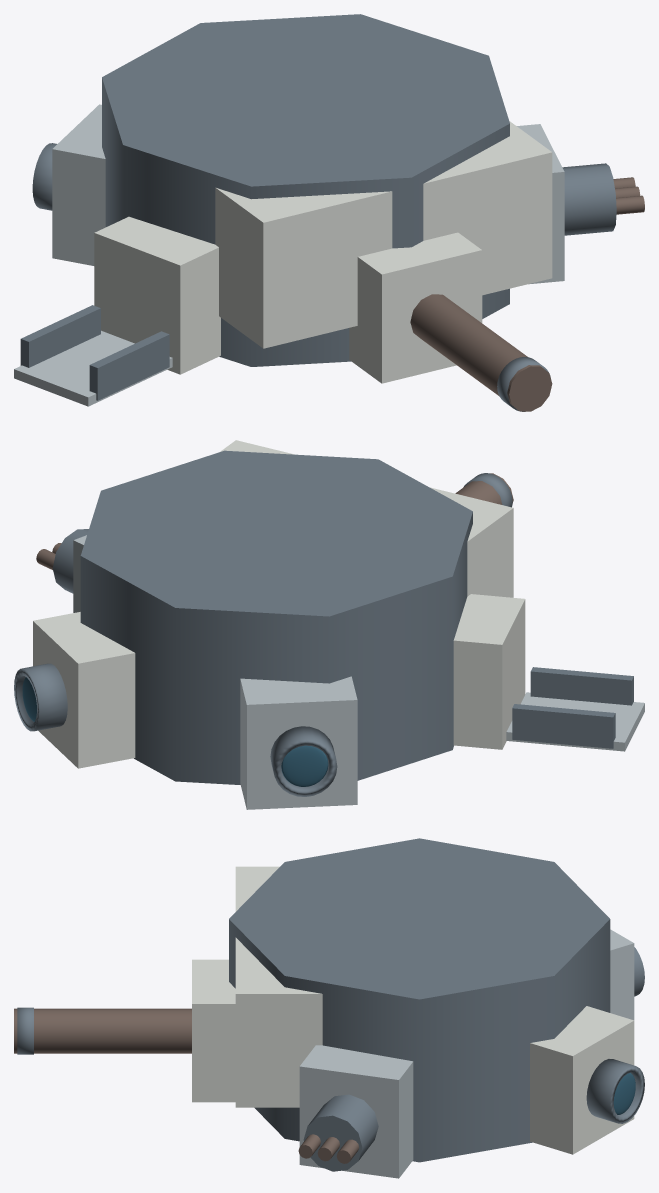
Rendered from curiosity_arm.shoulder_azimuth.shoulder_elevation.elbow.forearm.wrist.turret_rotation.glb.
The picture shows the model from 3 angles, top to bottom: view 1: azimuth 30°, elevation 25°; view 2: azimuth 150°, elevation 25°; view 3: azimuth 270°, elevation 25°; orthographic projection. The views are drawn at different scales.
Visible parts, largest first — view 1: curiosity_turret.mesh_Machined_steel, curiosity_turret.mesh_Pale_thermal_blanket, curiosity_turret.chimra.mesh_Pale_thermal_blanket, curiosity_turret.drill.mesh_Pale_thermal_blanket, curiosity_turret.apxs.mesh_Satin_aluminum, curiosity_turret.drill.mesh_Heat-stained_alloy, curiosity_turret.chimra.mesh_Machined_steel, curiosity_turret.chimra.mesh_Satin_aluminum, curiosity_turret.drt.mesh_Machined_steel, curiosity_turret.drt.mesh_Satin_aluminum, curiosity_turret.apxs.aperture.mesh_Machined_steel, curiosity_turret.drt.mesh_Heat-stained_alloy (+1 smaller); view 2: curiosity_turret.mesh_Machined_steel, curiosity_turret.mahli.mesh_Pale_thermal_blanket, curiosity_turret.apxs.mesh_Satin_aluminum, curiosity_turret.chimra.mesh_Pale_thermal_blanket, curiosity_turret.chimra.mesh_Machined_steel, curiosity_turret.mesh_Pale_thermal_blanket, curiosity_turret.mahli.aperture.mesh_Machined_steel, curiosity_turret.chimra.mesh_Satin_aluminum, curiosity_turret.apxs.aperture.mesh_Machined_steel, curiosity_turret.apxs.aperture.lens.mesh_Coated_optical_glas, curiosity_turret.drt.mesh_Machined_steel, curiosity_turret.drill.mesh_Heat-stained_alloy (+2 smaller); view 3: curiosity_turret.mesh_Machined_steel, curiosity_turret.mesh_Pale_thermal_blanket, curiosity_turret.mahli.mesh_Pale_thermal_blanket, curiosity_turret.drt.mesh_Satin_aluminum, curiosity_turret.drill.mesh_Heat-stained_alloy, curiosity_turret.drill.mesh_Pale_thermal_blanket, curiosity_turret.drt.mesh_Machined_steel, curiosity_turret.mahli.aperture.mesh_Machined_steel, curiosity_turret.apxs.mesh_Satin_aluminum, curiosity_turret.drt.mesh_Heat-stained_alloy, curiosity_turret.drill.mesh_Machined_steel, curiosity_turret.mahli.aperture.lens.mesh_Coated_optical_gla.
Boxes of the visible parts, x1,y1,x2,y2 form: curiosity_turret.mesh_Machined_steel: (102,14,509,366); curiosity_turret.mesh_Pale_thermal_blanket: (215,121,552,348); curiosity_turret.chimra.mesh_Pale_thermal_blanket: (94,216,220,374); curiosity_turret.drill.mesh_Pale_thermal_blanket: (349,232,482,383); curiosity_turret.apxs.mesh_Satin_aluminum: (52,104,105,265); curiosity_turret.drill.mesh_Heat-stained_alloy: (410,294,552,411); curiosity_turret.chimra.mesh_Machined_steel: (20,305,169,400); curiosity_turret.chimra.mesh_Satin_aluminum: (14,330,172,406); curiosity_turret.drt.mesh_Machined_steel: (562,163,616,235); curiosity_turret.drt.mesh_Satin_aluminum: (517,124,564,284); curiosity_turret.apxs.aperture.mesh_Machined_steel: (32,143,56,210); curiosity_turret.drt.mesh_Heat-stained_alloy: (613,177,644,214); curiosity_turret.mesh_Machined_steel: (80,450,472,784); curiosity_turret.mahli.mesh_Pale_thermal_blanket: (33,612,135,768); curiosity_turret.apxs.mesh_Satin_aluminum: (240,676,357,809); curiosity_turret.chimra.mesh_Pale_thermal_blanket: (453,594,525,749); curiosity_turret.chimra.mesh_Machined_steel: (512,667,633,748); curiosity_turret.mesh_Pale_thermal_blanket: (220,440,513,597); curiosity_turret.mahli.aperture.mesh_Machined_steel: (14,663,67,731); curiosity_turret.chimra.mesh_Satin_aluminum: (506,692,644,751); curiosity_turret.apxs.aperture.mesh_Machined_steel: (270,726,337,796); curiosity_turret.apxs.aperture.lens.mesh_Coated_optical_glas: (281,745,328,786); curiosity_turret.drt.mesh_Machined_steel: (52,529,88,593); curiosity_turret.drill.mesh_Heat-stained_alloy: (455,473,513,504); curiosity_turret.mesh_Machined_steel: (229,838,610,1162); curiosity_turret.mesh_Pale_thermal_blanket: (235,866,322,1107); curiosity_turret.mahli.mesh_Pale_thermal_blanket: (530,1006,634,1154); curiosity_turret.drt.mesh_Satin_aluminum: (299,1045,413,1178); curiosity_turret.drill.mesh_Heat-stained_alloy: (14,1008,191,1053); curiosity_turret.drill.mesh_Pale_thermal_blanket: (192,959,235,1102); curiosity_turret.drt.mesh_Machined_steel: (303,1094,378,1171); curiosity_turret.mahli.aperture.mesh_Machined_steel: (586,1059,644,1123); curiosity_turret.apxs.mesh_Satin_aluminum: (610,929,634,1020); curiosity_turret.drt.mesh_Heat-stained_alloy: (298,1134,359,1163); curiosity_turret.drill.mesh_Machined_steel: (17,1007,33,1054); curiosity_turret.mahli.aperture.lens.mesh_Coated_optical_gla: (613,1072,635,1114).
Bounding box in the file's own units: 0.7668 × 0.215 × 0.7545.
